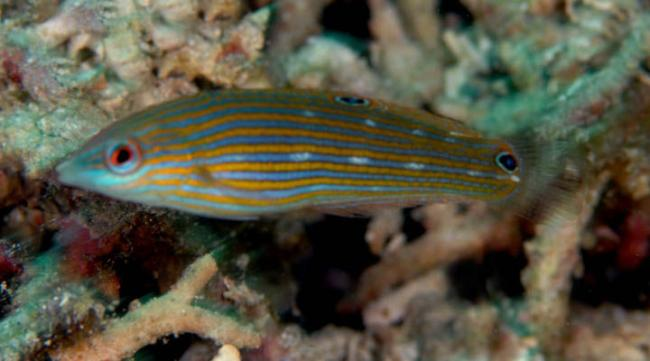fish: (55, 88, 589, 232)
